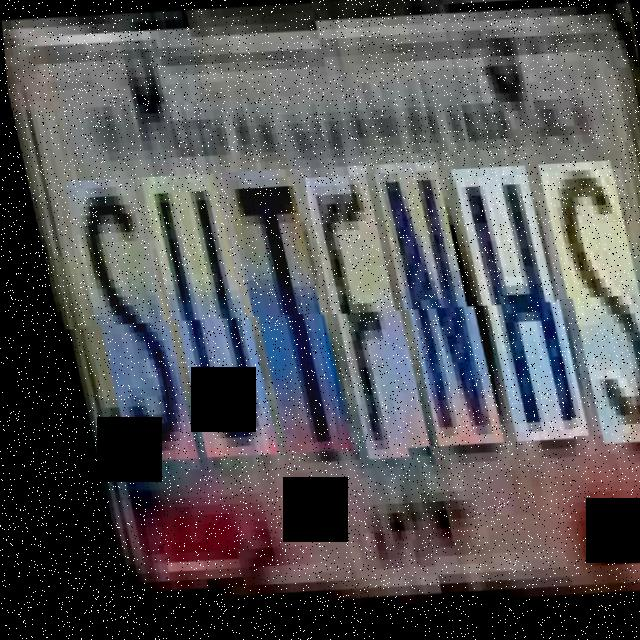F: (301, 174, 415, 462)
H: (450, 175, 573, 454)
N: (373, 170, 487, 459)
S: (62, 177, 181, 466), (537, 170, 640, 459)
T: (219, 169, 337, 457)
U: (137, 173, 261, 462)
